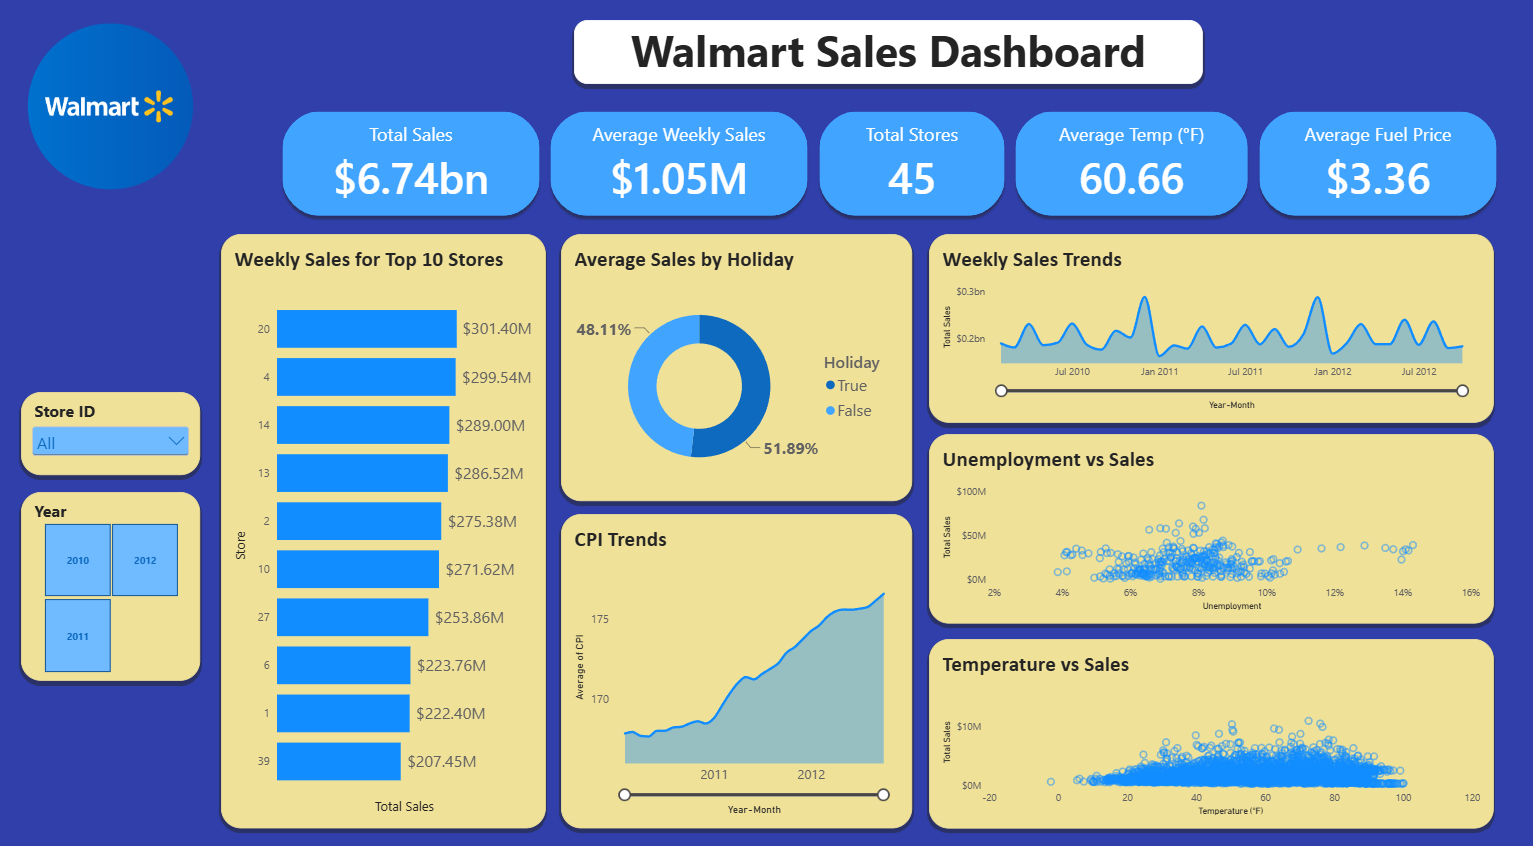

The page's visual inventory and layout, read from the dashboard file:
{"tool":"powerbi","page":{"name":"Unemployment Rate","canvas":[1920,1080],"ordinal":0},"visuals":[{"type":"cardVisual","fields":{"Data":["_Measures.Average Weekly Sales"]},"box":[682.9,134.3,335.7,144.3],"z":0},{"type":"cardVisual","fields":{"Data":["_Measures.Total Sales"]},"box":[347.1,134.3,335.7,144.3],"z":1000},{"type":"cardVisual","fields":{"Data":["Count(walmart_sales_fact.Store)"]},"box":[1018.6,134.3,245.7,144.3],"z":2000},{"type":"cardVisual","fields":{"Data":["_Measures.Average Temp"]},"box":[1264.3,134.3,304.3,144.3],"z":3000},{"type":"cardVisual","fields":{"Data":["_Measures.Average Fuel Price"]},"box":[1568.6,134.3,310,144.3],"z":4000},{"type":"image","box":[34.3,25.7,211.4,215.7],"z":5000},{"type":"textbox","box":[718.6,25.7,785.7,80],"z":6000},{"type":"lineChart","title":"Weekly Sales Trends","fields":{"Category":["date_dim.Date.Variation.Date Hierarchy.Year","date_dim.Date.Variation.Date Hierarchy.Month"],"Y":["_Measures.Total Sales"]},"box":[1162.9,294.3,705.7,235.7],"z":7000},{"type":"donutChart","title":"Average Sales by Holiday","fields":{"Category":["walmart_sales_fact.Holiday_Flag"],"Y":["_Measures.Average Weekly Sales"]},"box":[702.9,294.3,438.6,334.3],"z":8000},{"type":"barChart","title":"Weekly Sales for Top 10 Stores","fields":{"Category":["walmart_sales_fact.Store"],"Y":["_Measures.Total Sales"]},"box":[277.1,294.3,405.7,742.9],"z":8001},{"type":"lineChart","title":"CPI Trends","fields":{"Category":["date_dim.Date.Variation.Date Hierarchy.Year","date_dim.Date.Variation.Date Hierarchy.Month"],"Y":["Avg(walmart_sales_fact.CPI)"]},"box":[702.9,644.3,438.6,392.9],"z":8002},{"type":"scatterChart","title":"Unemployment vs Sales","fields":{"Category":["walmart_sales_fact.Unemployment Rate"],"X":["Avg(walmart_sales_fact.Unemployment Rate)"],"Y":["_Measures.Total Sales"]},"box":[1162.9,544.3,705.7,237.1],"z":8003},{"type":"slicer","title":"CPI Trends","fields":{"Values":["date_dim.Year"]},"box":[27.1,615.7,224.3,235.7],"z":8004},{"type":"slicer","title":"CPI Trends","fields":{"Values":["walmart_sales_fact.Store"]},"box":[27.1,491.4,224.3,104.3],"z":8005},{"type":"scatterChart","title":"Temperature vs Sales","fields":{"Category":["walmart_sales_fact.Temperature"],"X":["Avg(walmart_sales_fact.Temperature)"],"Y":["_Measures.Total Sales"]},"box":[1162.9,800,705.7,237.1],"z":8006}]}

Visuals, with their boxes in screenshot pixels (x1, y1, x2, y2), scaled from the page's 1920x1080 canvas onto the 1533x846 screenshot:
cardVisual - _Measures.Average Weekly Sales: [545,105,813,218]
cardVisual - _Measures.Total Sales: [277,105,545,218]
cardVisual - Count(walmart_sales_fact.Store): [813,105,1009,218]
cardVisual - _Measures.Average Temp: [1009,105,1252,218]
cardVisual - _Measures.Average Fuel Price: [1252,105,1500,218]
image: [27,20,196,189]
textbox: [574,20,1201,83]
"Weekly Sales Trends" lineChart: [929,231,1492,415]
"Average Sales by Holiday" donutChart: [561,231,911,492]
"Weekly Sales for Top 10 Stores" barChart: [221,231,545,812]
"CPI Trends" lineChart: [561,505,911,812]
"Unemployment vs Sales" scatterChart: [929,426,1492,612]
"CPI Trends" slicer: [22,482,201,667]
"CPI Trends" slicer: [22,385,201,467]
"Temperature vs Sales" scatterChart: [929,627,1492,812]
